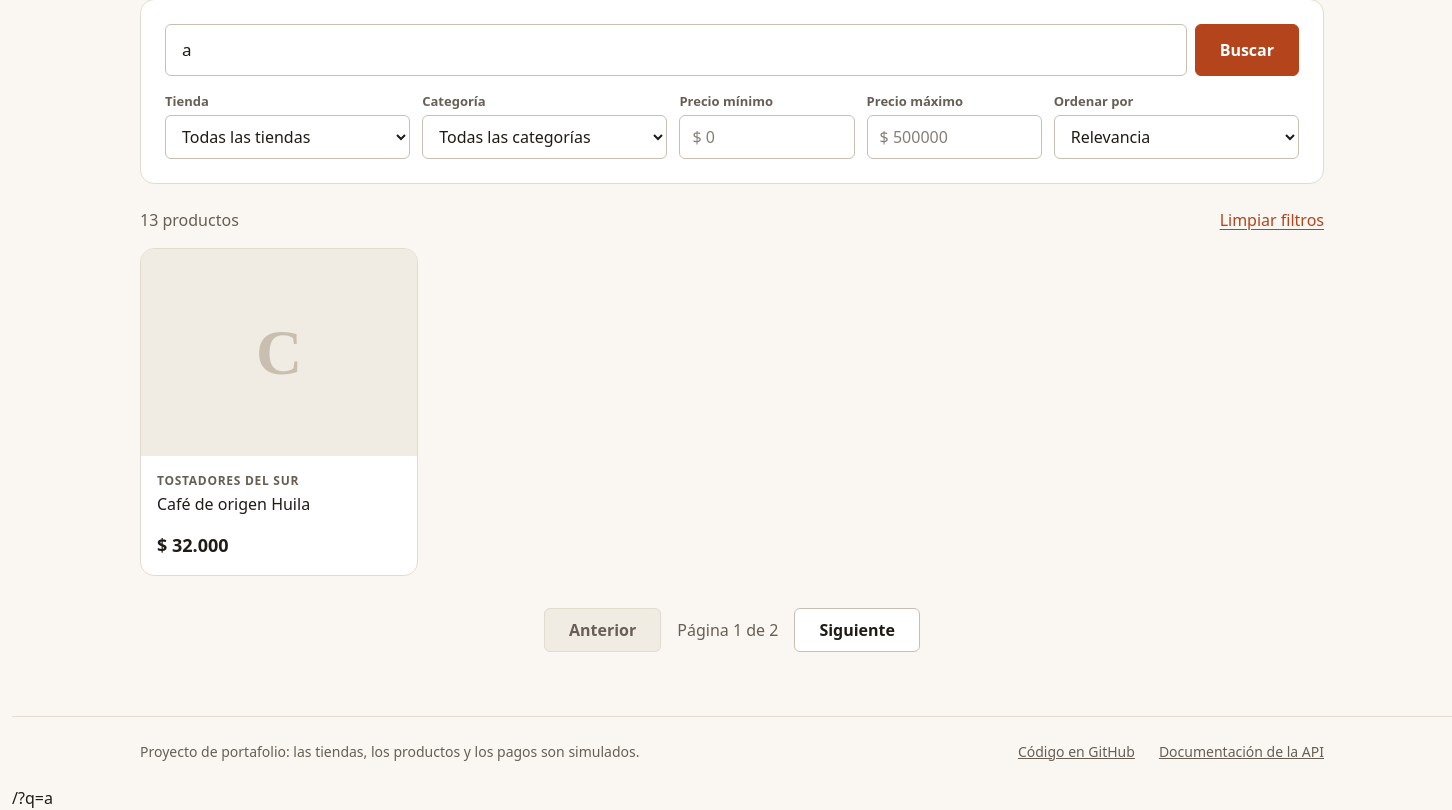
Scenario: CatalogPage › paginates with links that keep the current filters
(page scrolled)
Check: the heading "Café de origen Huila" is shown, box [157,493,310,515]
Check: the text "Página 1 de 2" is shown, box [677,618,778,642]
Click the link "Siguiente" at (857, 630), box [794,608,920,652]
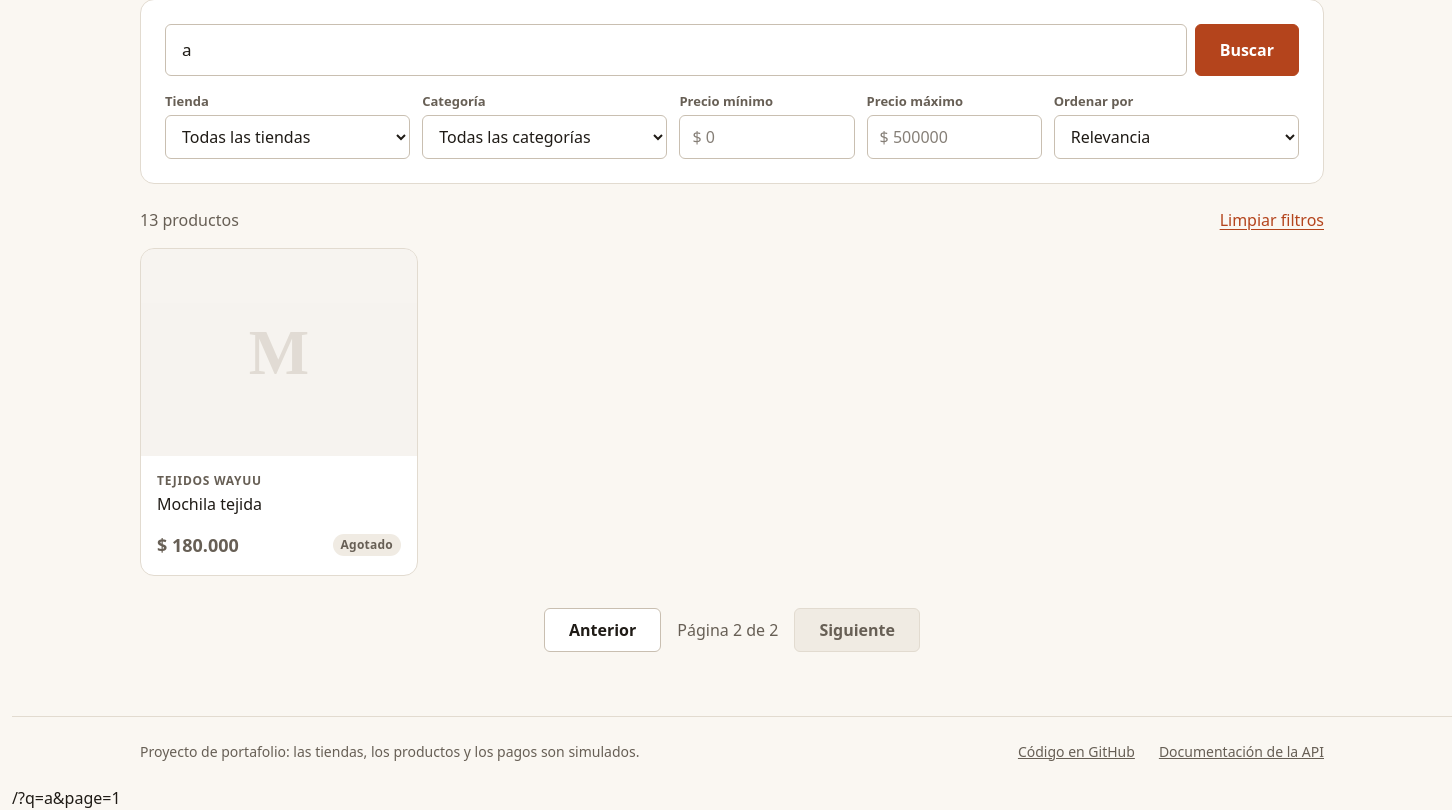
Check: the heading "Mochila tejida" is shown, box [157,493,262,515]
Check: the text with test id "url" reads "/?q=a&page=1", box [12,787,121,809]
Check: the text "Página 2 de 2" is shown, box [677,618,778,642]
